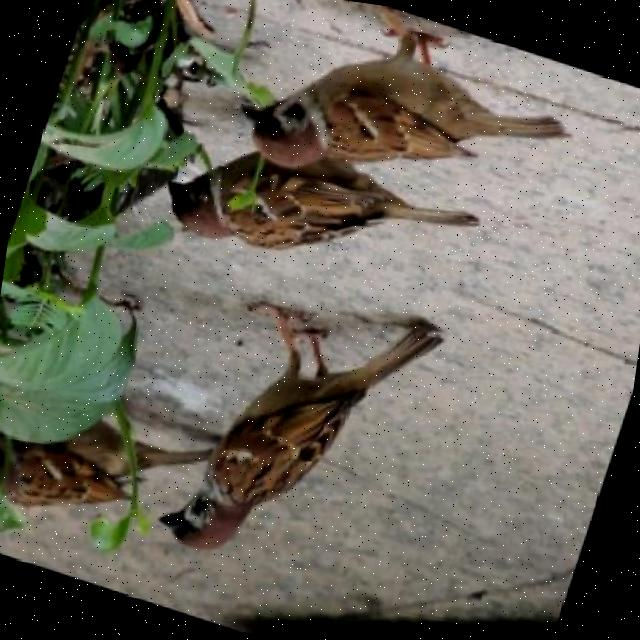sparrow: (150, 252, 452, 608), (224, 0, 594, 253), (144, 111, 490, 318), (0, 368, 221, 579)
